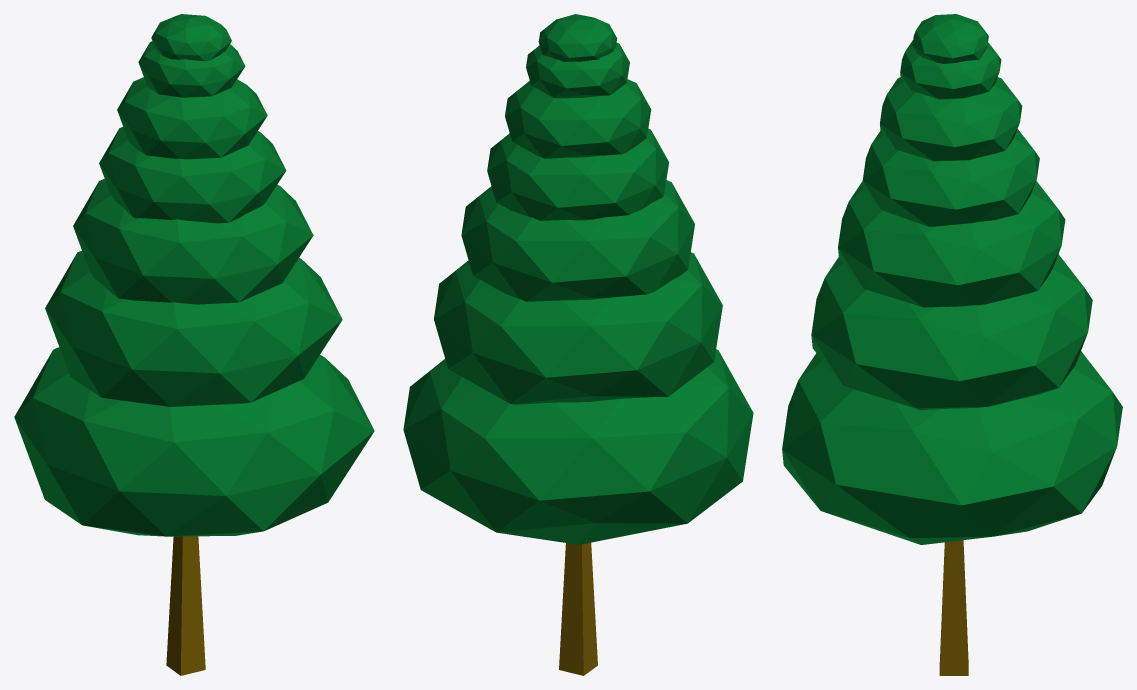
The model's file is TREE.001_Material.037.glb.
The picture shows the model from 3 angles, left to right: view 1: azimuth 30°, elevation 25°; view 2: azimuth 150°, elevation 25°; view 3: azimuth 270°, elevation 25°; orthographic projection.
Visible parts, largest first — view 1: TREE.001_Material.037_0; view 2: TREE.001_Material.037_0; view 3: TREE.001_Material.037_0.
Boxes of the visible parts, <box> form: TREE.001_Material.037_0: <box>14,14,374,675</box>; TREE.001_Material.037_0: <box>403,14,753,675</box>; TREE.001_Material.037_0: <box>782,14,1122,675</box>.
Bounding box in the file's own units: 0.4204 × 0.8412 × 0.3987.
Materials: 1 (1 with a texture image).
